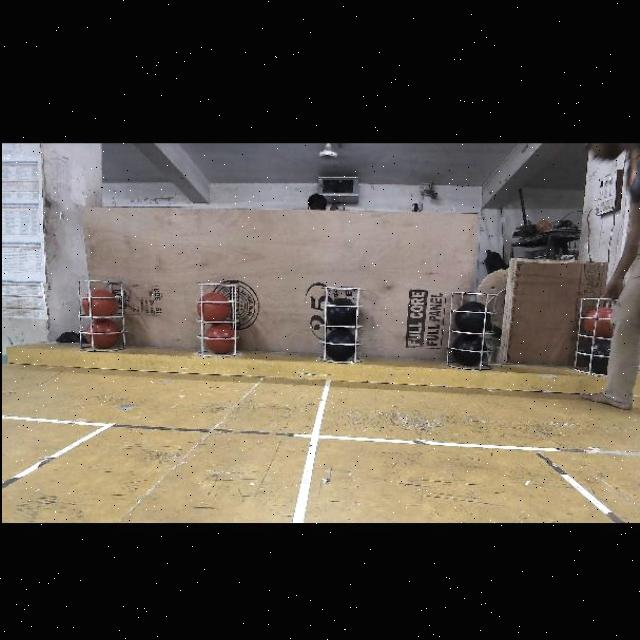P: (324, 327, 358, 359), (452, 331, 486, 363), (456, 301, 488, 333), (581, 341, 609, 372), (325, 298, 355, 326)
R: (84, 318, 120, 348), (203, 322, 234, 353), (196, 290, 228, 320), (81, 290, 117, 316), (583, 306, 611, 336)
S: (73, 271, 129, 351), (573, 286, 623, 372), (442, 292, 496, 364), (191, 280, 243, 354), (318, 280, 362, 360)
